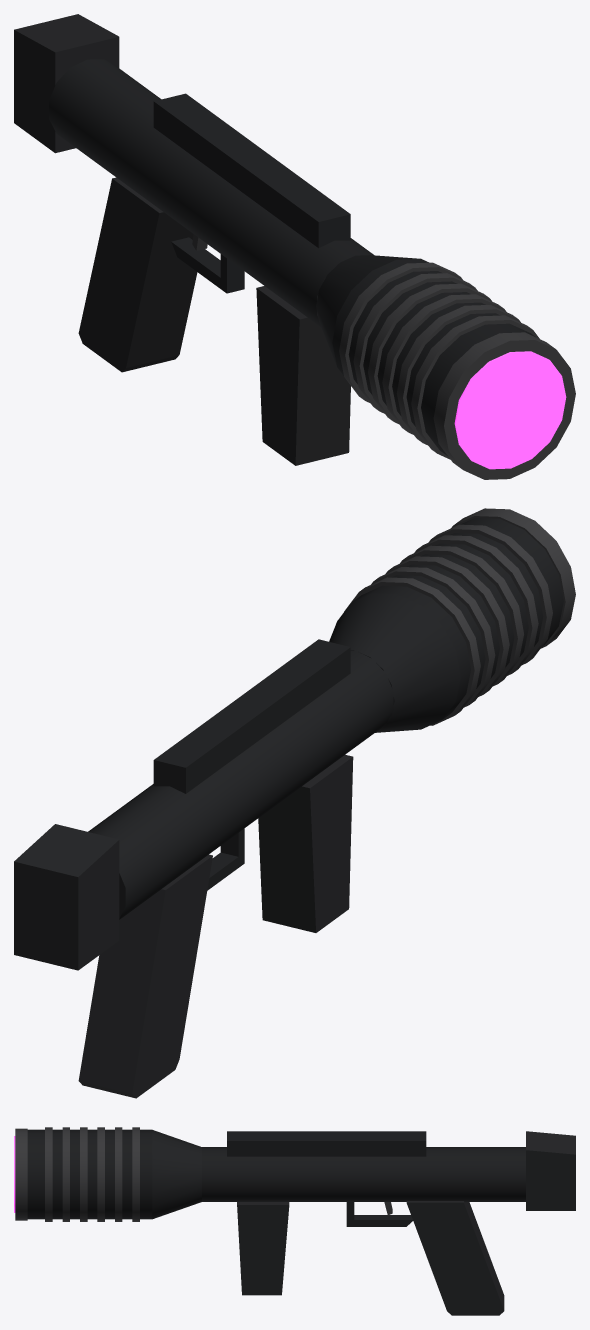
File: lumen-365.glb
The picture shows the model from 3 angles, top to bottom: view 1: azimuth 30°, elevation 25°; view 2: azimuth 150°, elevation 25°; view 3: azimuth 270°, elevation 25°; orthographic projection. The views are drawn at different scales.
Visible parts, largest first — view 1: lumen-365; view 2: lumen-365; view 3: lumen-365.
Boxes of the visible parts, left/top/right/bottom form: lumen-365: left=14, top=14, right=575, bottom=479; lumen-365: left=14, top=508, right=575, bottom=1098; lumen-365: left=14, top=1127, right=575, bottom=1315.
Size of the model in its own units: 0.076 by 0.156 by 0.451.
Materials: 1 (1 with a texture image).
